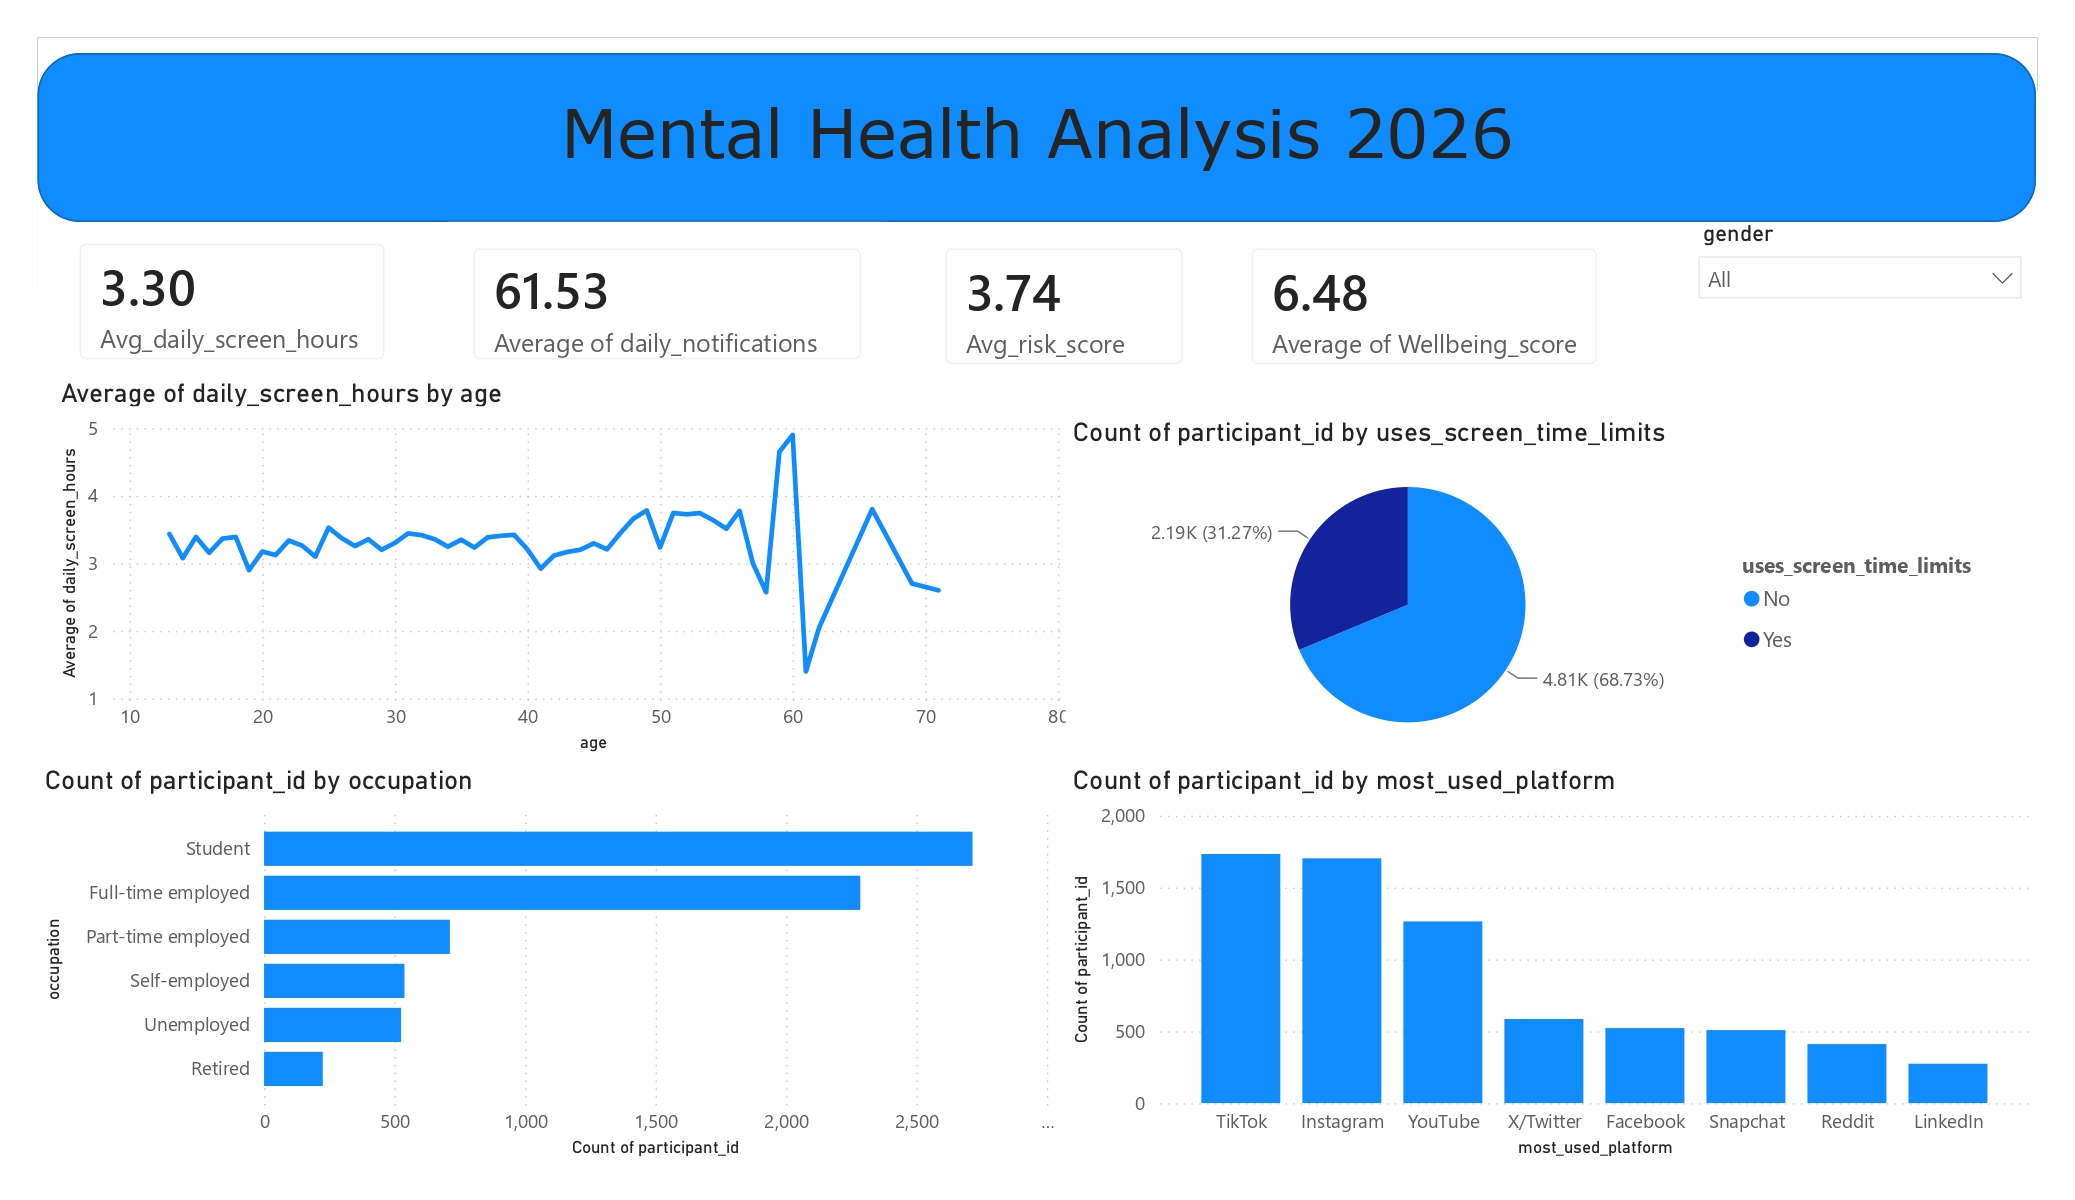

Layout of this report page (visuals, bound fields, positions):
{"tool":"powerbi","page":{"name":"Page 1","canvas":[1280,720],"ordinal":0},"visuals":[{"type":"cardVisual","fields":{"Data":["social_media_screentime_mental_health_2026.Avg_daily_screen_hours"]},"box":[10.1,115.2,229,108],"z":0},{"type":"cardVisual","fields":{"Data":["social_media_screentime_mental_health_2026.Avg_risk_score"]},"box":[564.5,118.1,185.8,108],"z":1000},{"type":"cardVisual","fields":{"Data":["Avg(social_media_screentime_mental_health_2026.Wellbeing_score)"]},"box":[760.3,118.1,254.9,108],"z":2000},{"type":"lineChart","fields":{"Y":["Avg(social_media_screentime_mental_health_2026.daily_screen_hours)"],"Category":["social_media_screentime_mental_health_2026.age"]},"box":[10.1,217.4,658.1,244.8],"z":3000},{"type":"pieChart","fields":{"Y":["CountNonNull(social_media_screentime_mental_health_2026.participant_id)"],"Category":["social_media_screentime_mental_health_2026.uses_screen_time_limits"]},"box":[658.1,241.9,599,223.2],"z":4000},{"type":"barChart","fields":{"Category":["social_media_screentime_mental_health_2026.occupation"],"Y":["CountNonNull(social_media_screentime_mental_health_2026.participant_id)"]},"box":[0,465.3,658.5,255.3],"z":5000},{"type":"slicer","fields":{"Values":["social_media_screentime_mental_health_2026.gender"]},"box":[1052.6,112.3,227.5,108],"z":6000},{"type":"columnChart","fields":{"Category":["social_media_screentime_mental_health_2026.most_used_platform"],"Y":["CountNonNull(social_media_screentime_mental_health_2026.participant_id)"]},"box":[658.5,465.3,621.5,255.3],"z":7000},{"type":"shape","box":[0,10.1,1278.7,108],"z":8000},{"type":"cardVisual","fields":{"Data":["Avg(social_media_screentime_mental_health_2026.daily_notifications)"]},"box":[262.1,118.1,282.2,105.1],"z":9000},{"type":"textbox","box":[329.8,28.8,630.7,72],"z":10000}]}

Visuals, with their boxes on the page's 1280x720 design canvas (x1, y1, x2, y2). These are canvas units, not pixel positions in the 2075x1200 screenshot, which may show the page scaled, cropped or inside an application window:
cardVisual - social_media_screentime_mental_health_2026.Avg_daily_screen_hours: [10, 115, 239, 223]
cardVisual - social_media_screentime_mental_health_2026.Avg_risk_score: [564, 118, 750, 226]
cardVisual - Avg(social_media_screentime_mental_health_2026.Wellbeing_score): [760, 118, 1015, 226]
lineChart - Avg(social_media_screentime_mental_health_2026.daily_screen_hours) x social_media_screentime_mental_health_2026.age: [10, 217, 668, 462]
pieChart - CountNonNull(social_media_screentime_mental_health_2026.participant_id) x social_media_screentime_mental_health_2026.uses_screen_time_limits: [658, 242, 1257, 465]
barChart - social_media_screentime_mental_health_2026.occupation x CountNonNull(social_media_screentime_mental_health_2026.participant_id): [0, 465, 658, 721]
slicer - social_media_screentime_mental_health_2026.gender: [1053, 112, 1280, 220]
columnChart - social_media_screentime_mental_health_2026.most_used_platform x CountNonNull(social_media_screentime_mental_health_2026.participant_id): [658, 465, 1280, 721]
shape: [0, 10, 1279, 118]
cardVisual - Avg(social_media_screentime_mental_health_2026.daily_notifications): [262, 118, 544, 223]
textbox: [330, 29, 960, 101]
